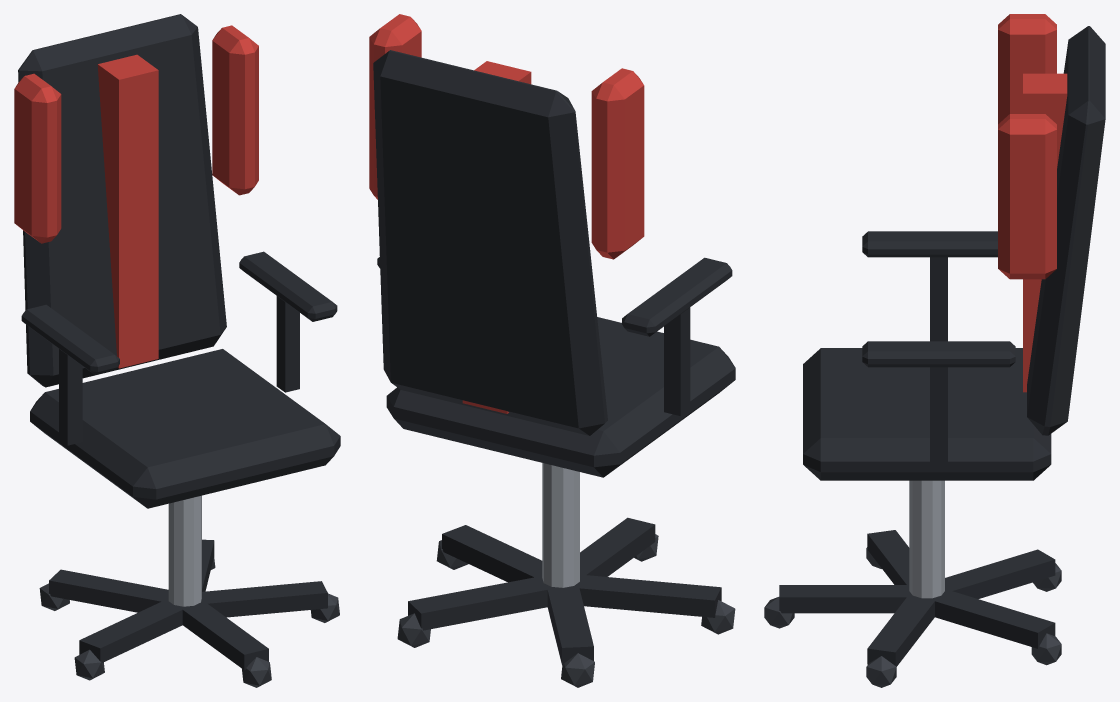
Rendered from chair_3.glb.
The picture shows the model from 3 angles, left to right: view 1: azimuth 30°, elevation 25°; view 2: azimuth 150°, elevation 25°; view 3: azimuth 270°, elevation 25°; orthographic projection. The views are drawn at different scales.
Visible parts, largest first — view 1: chair_3_mesh; view 2: chair_3_mesh; view 3: chair_3_mesh.
Boxes of the visible parts, x1=… form: chair_3_mesh: x1=14, y1=14, x2=340, y2=687; chair_3_mesh: x1=369, y1=14, x2=735, y2=687; chair_3_mesh: x1=764, y1=14, x2=1105, y2=687.
Bounding box in the file's own units: 0.5821 × 1.16 × 0.6354.
